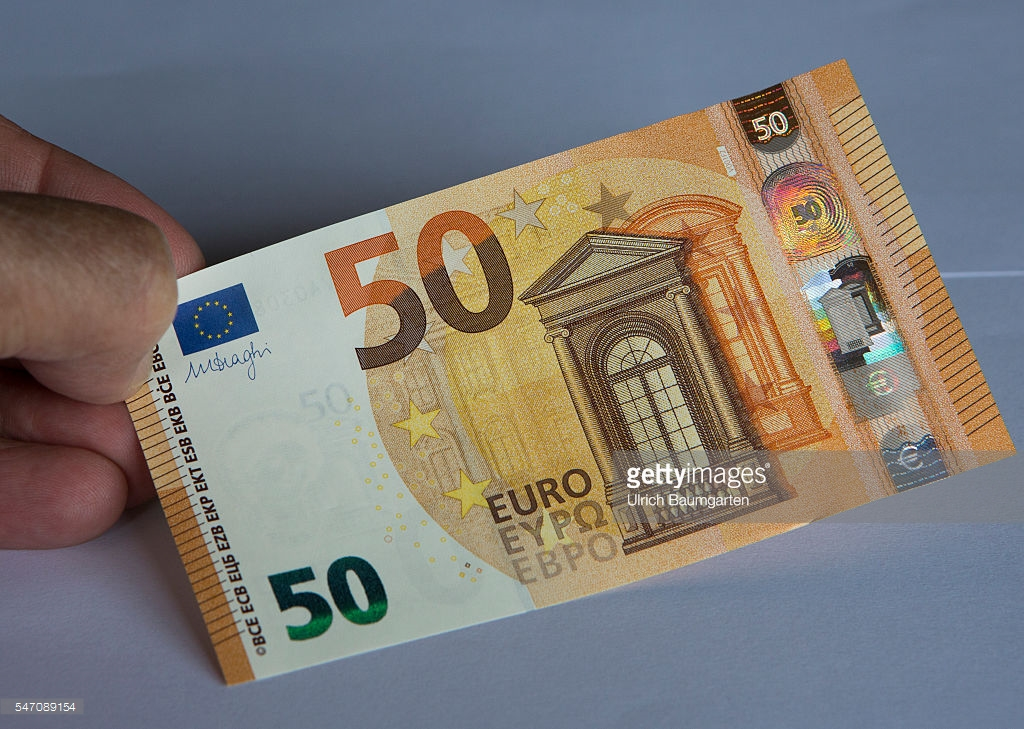billete: (119, 55, 1022, 688)
